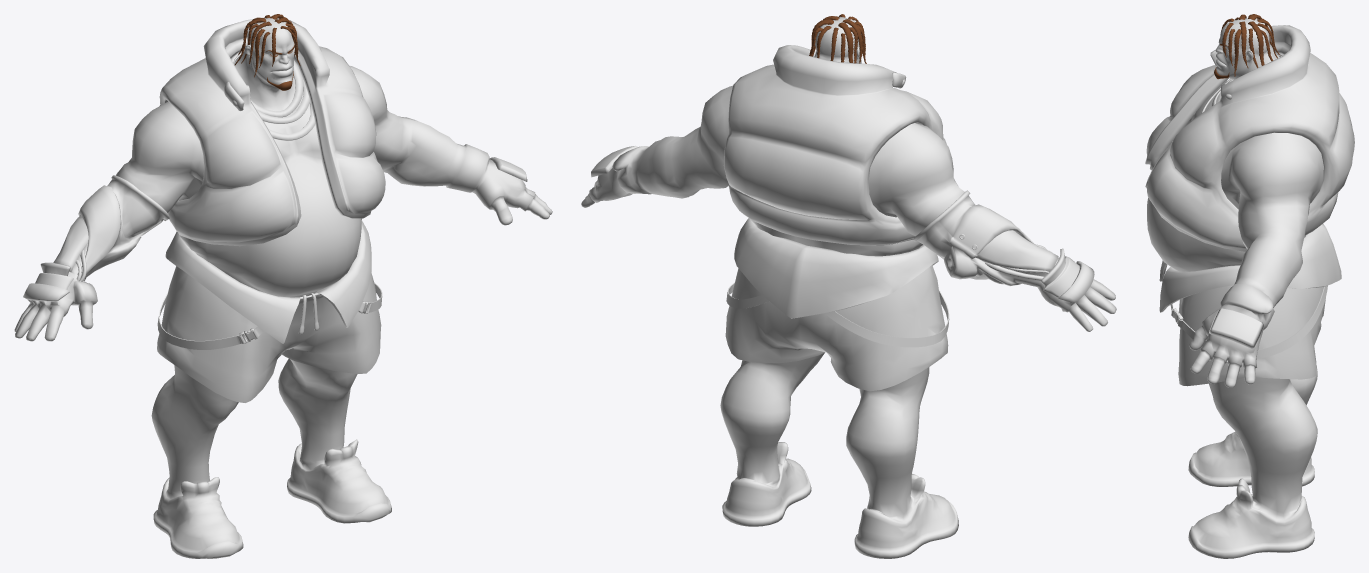
The model's file is fighter_t_pose.glb.
3 views of the same model, side by side, from view 1: azimuth 30°, elevation 25°; view 2: azimuth 150°, elevation 25°; view 3: azimuth 270°, elevation 25° (orthographic). The views are drawn at different scales.
Parts seen in each view (by area): view 1: figther_low.003; view 2: figther_low.003; view 3: figther_low.003.
Part boxes in pixels (<box>): figther_low.003: <box>14,14,552,558</box>; figther_low.003: <box>581,14,1116,558</box>; figther_low.003: <box>1145,14,1354,558</box>.
Bounding box in the file's own units: 1.91 × 1.75 × 0.677.
